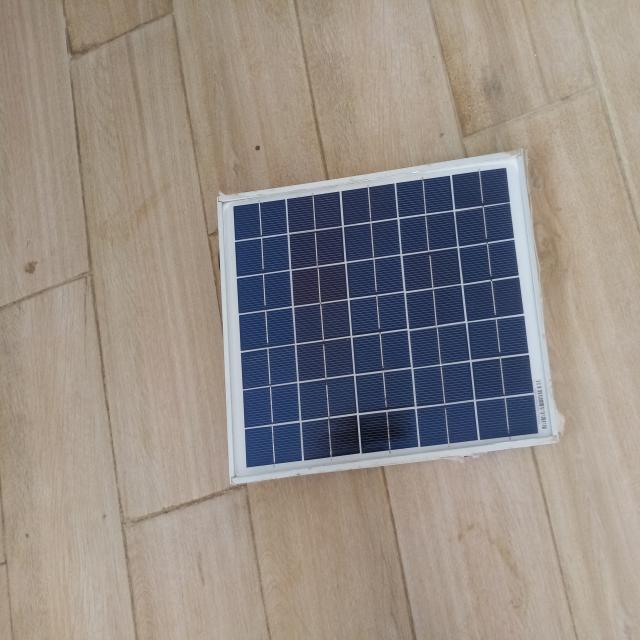no faulty: (219, 153, 556, 480)
